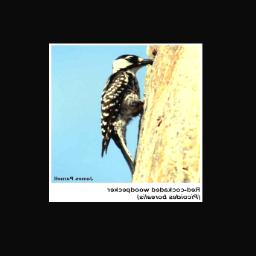Woodpecker: (97, 54, 157, 175)
